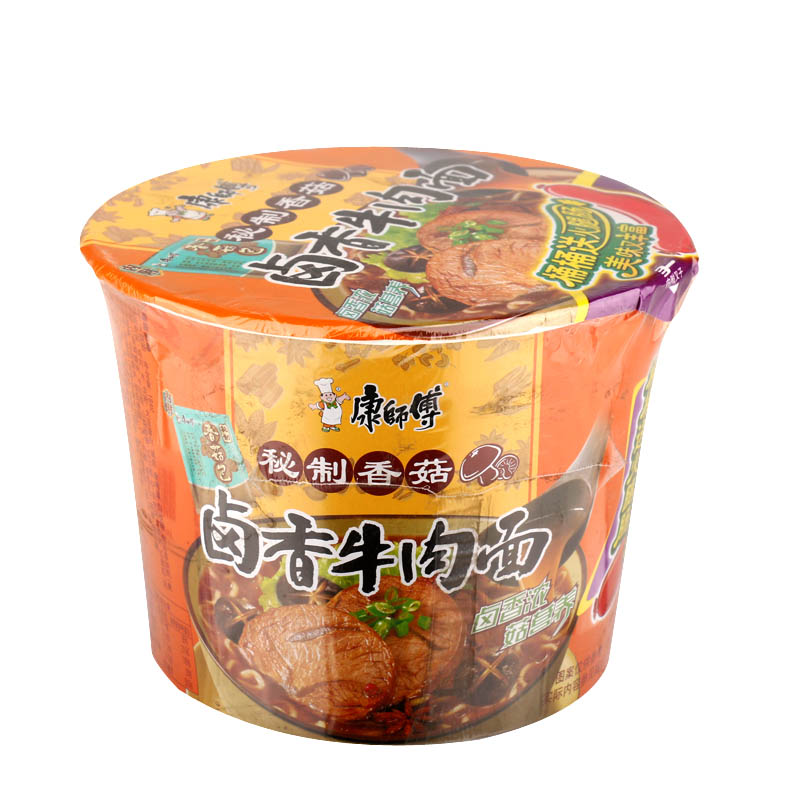luxiang: (80, 147, 700, 745)
